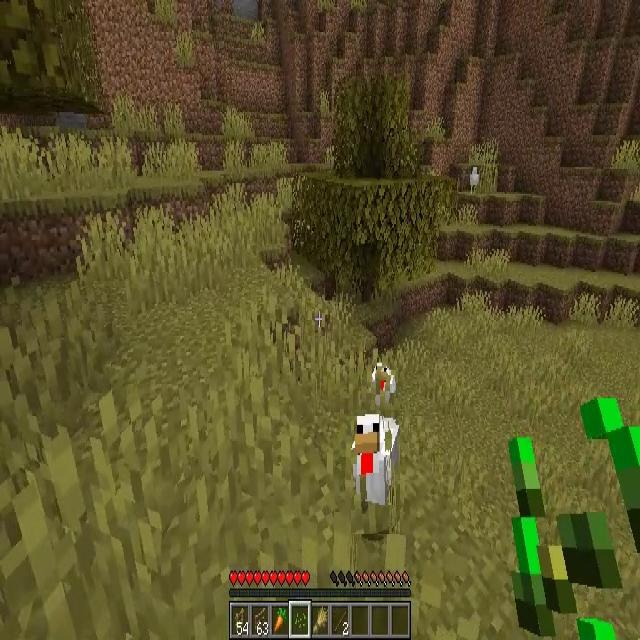duck: (351, 410, 400, 534), (371, 360, 397, 407), (470, 164, 479, 192)
